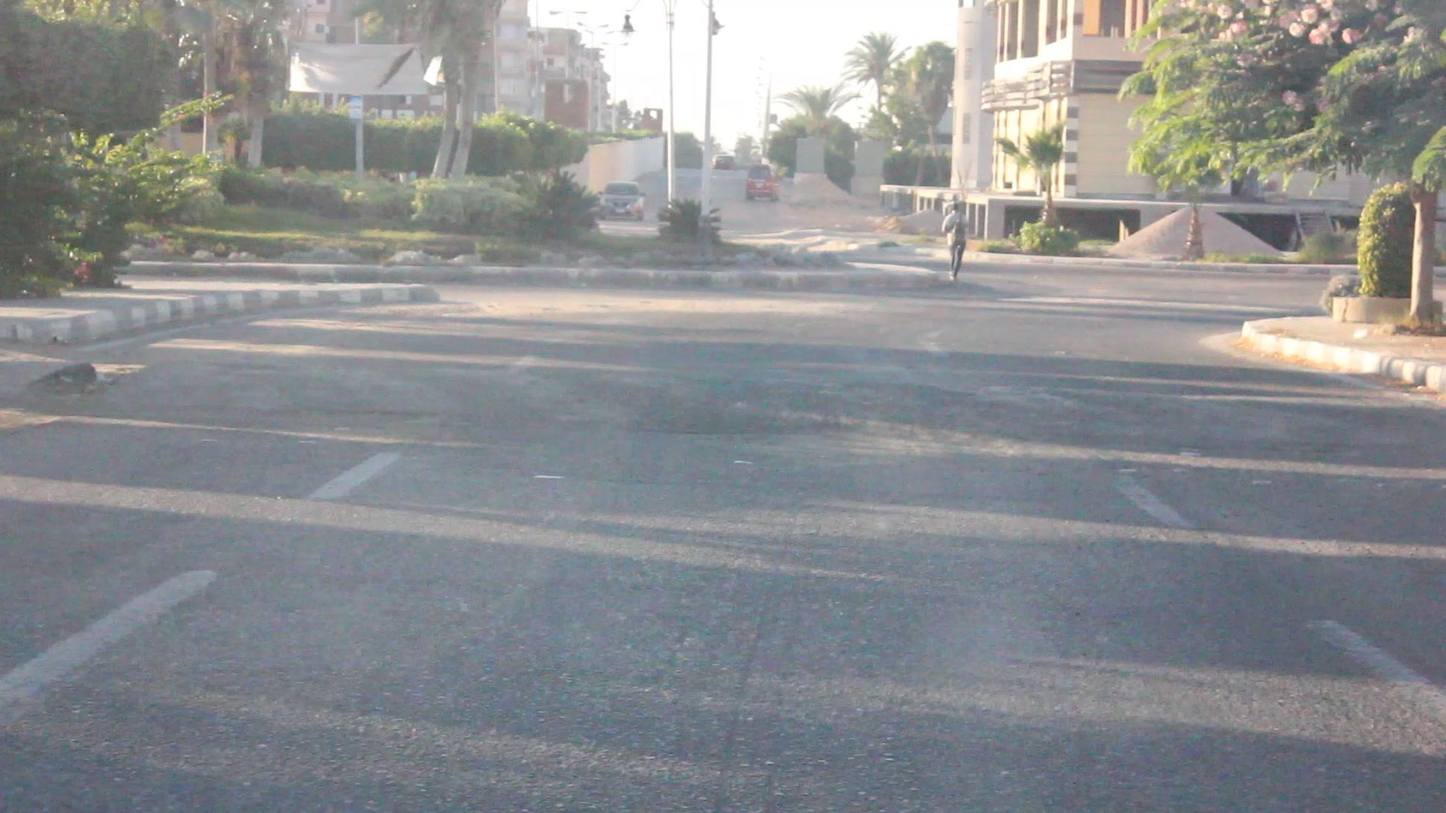Bump: (0, 359, 1445, 455)
